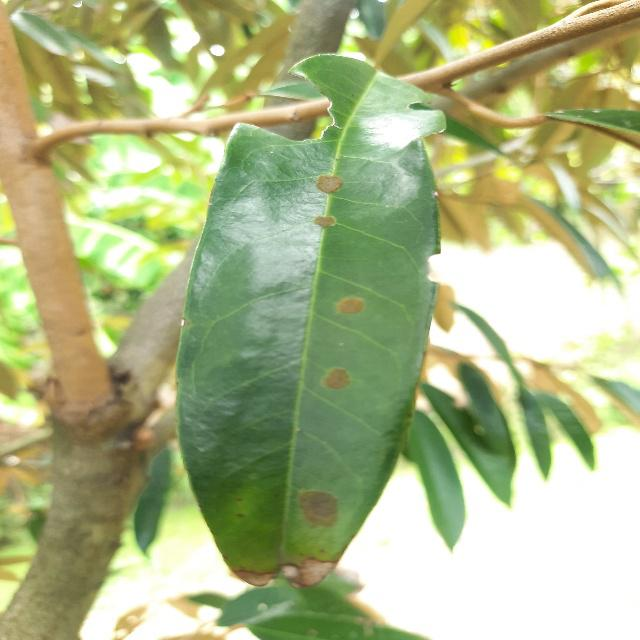Algal Leaf Spot: (179, 49, 450, 597)
